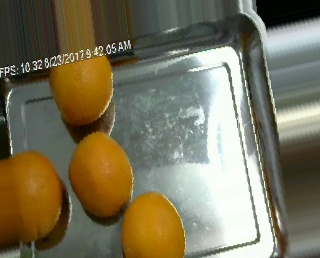Orange: (1, 150, 63, 243), (68, 132, 133, 218), (121, 190, 187, 258)
